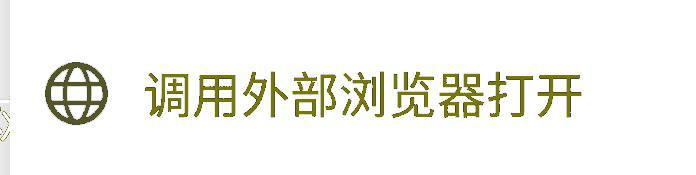CheckedTextView: (1, 1, 695, 174)
